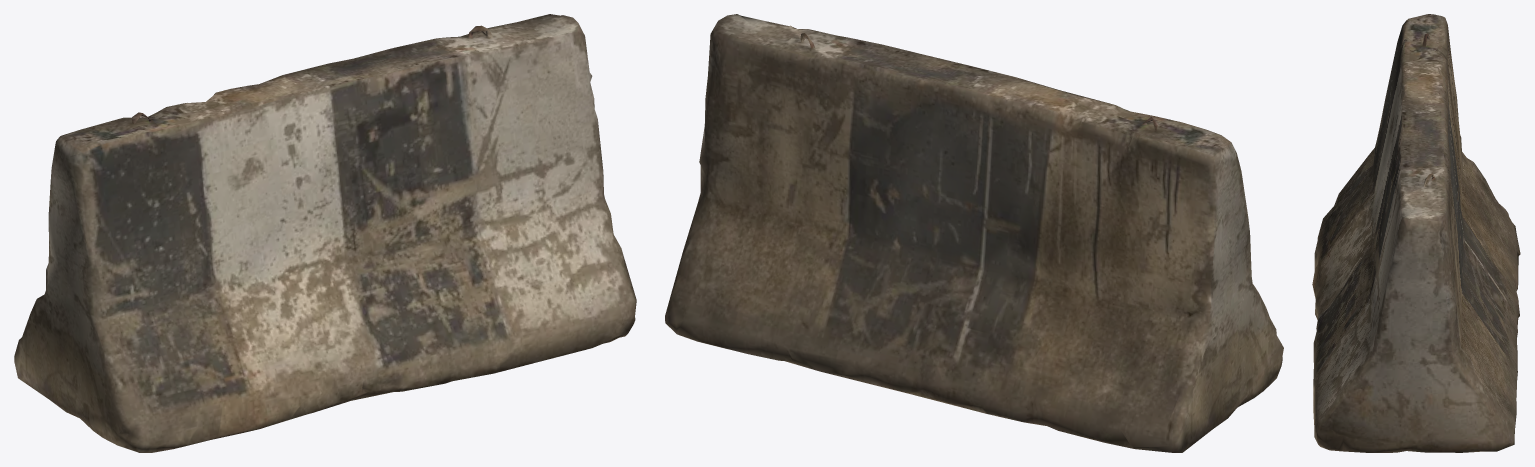
File: concrete_road_barrier.glb
3 renders of one model, left to right at view 1: azimuth 30°, elevation 25°; view 2: azimuth 150°, elevation 25°; view 3: azimuth 270°, elevation 25°, orthographic. The views are drawn at different scales.
Visible parts, largest first — view 1: concrete_road_barrier; view 2: concrete_road_barrier; view 3: concrete_road_barrier.
Part boxes in pixels (bbox=[...]): concrete_road_barrier: bbox=[14, 14, 636, 452]; concrete_road_barrier: bbox=[665, 14, 1283, 452]; concrete_road_barrier: bbox=[1312, 14, 1520, 452].
Bounding box in the file's own units: 1.54 × 0.8303 × 0.6387.
1 material, 1 textured.
